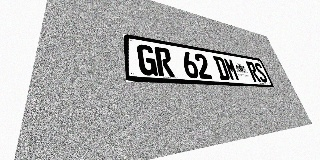2: (194, 53, 213, 79)
6: (180, 51, 200, 79)
D: (213, 56, 231, 80)
G: (137, 44, 158, 76)
M: (223, 57, 240, 81)
R: (154, 46, 175, 77), (245, 61, 262, 82)
S: (253, 62, 269, 83)
